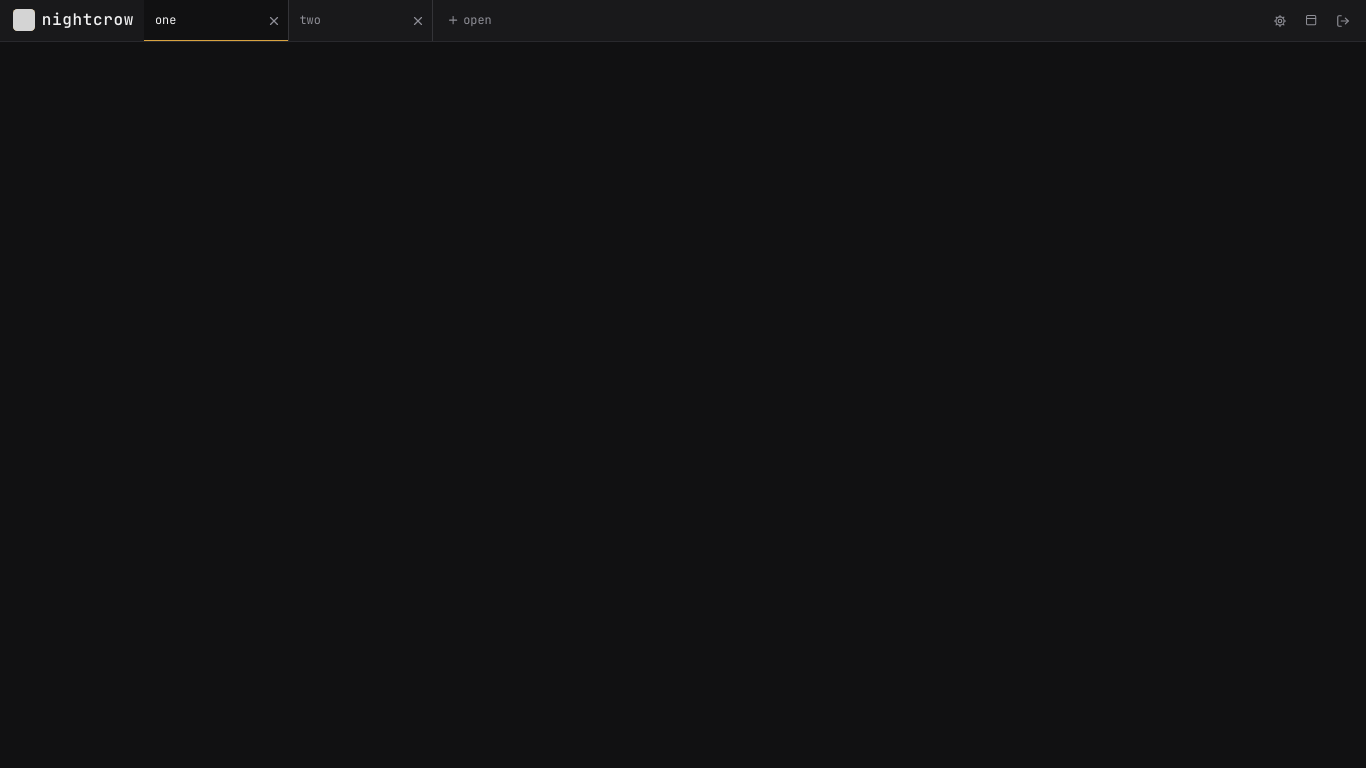
Test: Header › the help button opens the sheet
Click the button named "Settings" at (1280, 20), box [1269,10,1290,31]
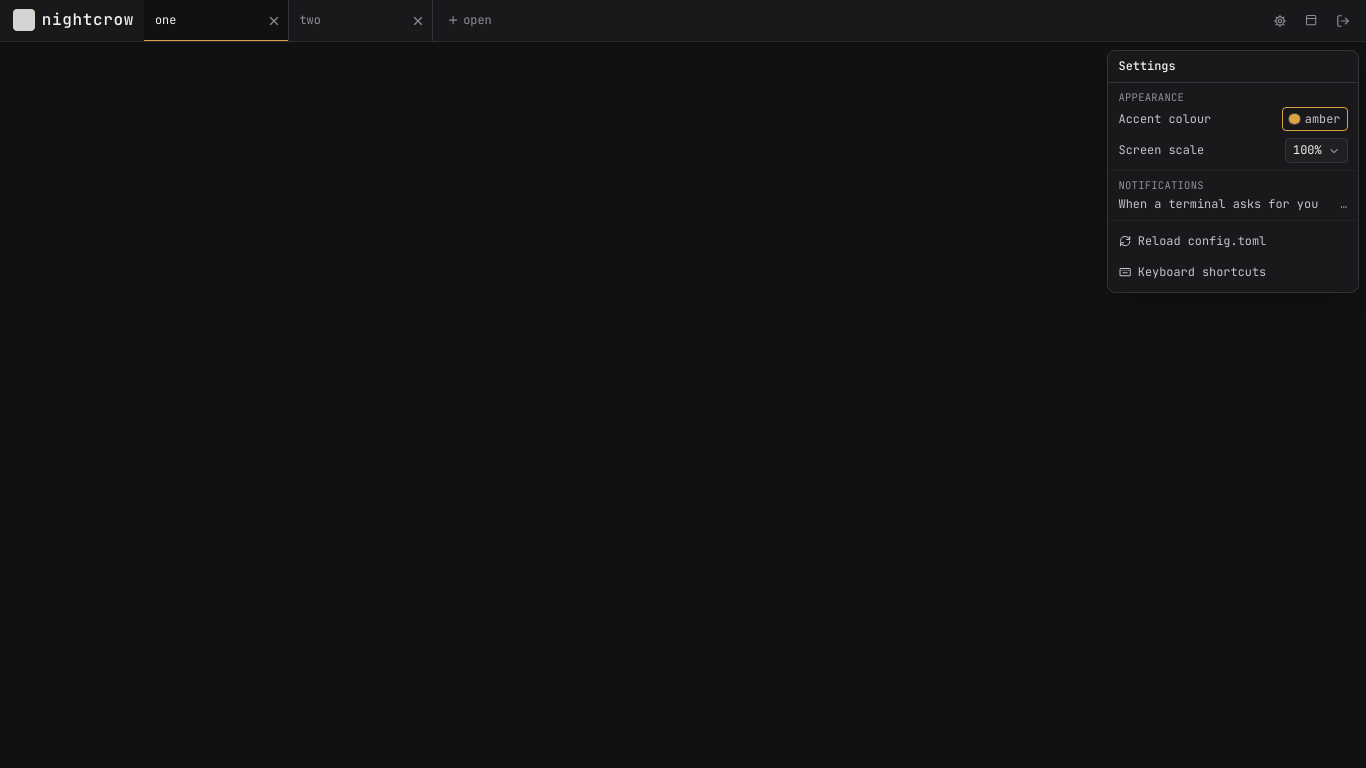
Click the button "Keyboard shortcuts" at (1233, 272), box [1118,258,1348,286]
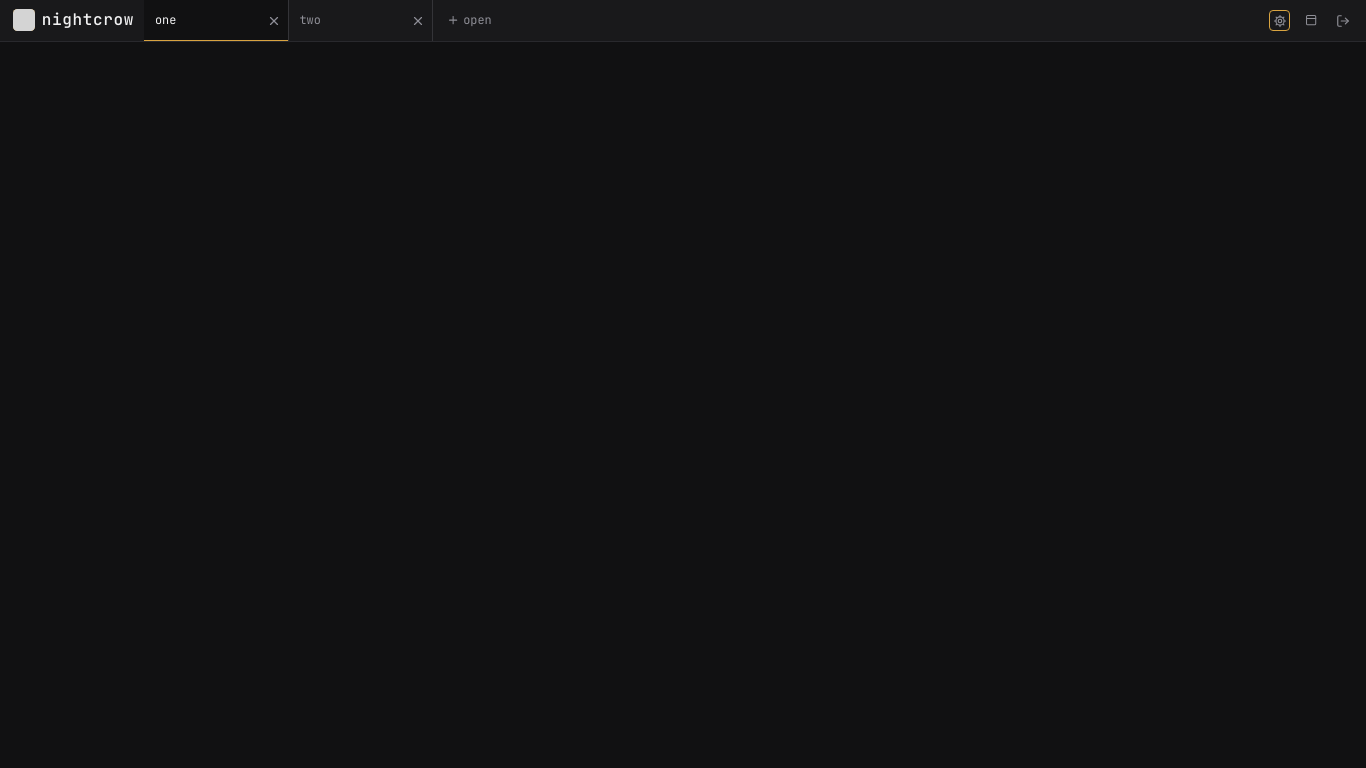
Result: the heading "Settings" is gone
